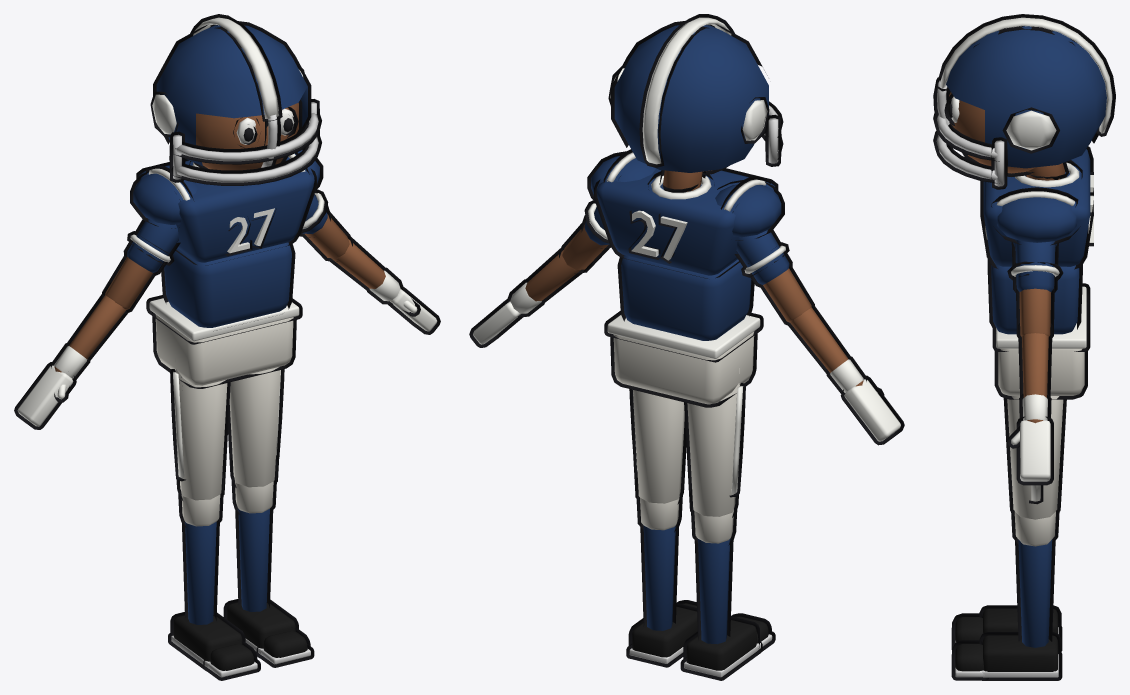
File: toon.glb
3 views of the same model, side by side, from view 1: azimuth 30°, elevation 25°; view 2: azimuth 150°, elevation 25°; view 3: azimuth 270°, elevation 25° (orthographic). The views are drawn at different scales.
Visible parts, largest first — view 1: head, thorax, pelvis, lumbar, thighR, thighL, shankL, shankR, upperArmR, forearmR, footR, forearmL (+6 smaller); view 2: head, thorax, pelvis, lumbar, thighR, thighL, shankL, shankR, upperArmR, footR, forearmR, footL (+5 smaller); view 3: head, thorax, shankL, pelvis, upperArmL, thighL, lumbar, footL, forearmL, handL, toesL, footR (+2 smaller).
Boxes of the visible parts, left/top/right/bottom form: head: left=150, top=14, right=321, bottom=185; thorax: left=130, top=150, right=323, bottom=265; pelvis: left=146, top=295, right=302, bottom=388; lumbar: left=161, top=242, right=295, bottom=331; thighR: left=170, top=354, right=230, bottom=500; thighL: left=228, top=367, right=284, bottom=487; shankL: left=230, top=457, right=277, bottom=611; shankR: left=177, top=472, right=224, bottom=624; upperArmR: left=102, top=218, right=180, bottom=315; forearmR: left=51, top=282, right=136, bottom=381; footR: left=168, top=612, right=245, bottom=670; forearmL: left=319, top=228, right=403, bottom=304; head: left=608, top=14, right=783, bottom=175; thorax: left=587, top=149, right=784, bottom=278; pelvis: left=604, top=311, right=763, bottom=407; lumbar: left=617, top=255, right=754, bottom=340; thighR: left=684, top=368, right=745, bottom=517; thighL: left=629, top=389, right=686, bottom=504; shankL: left=635, top=472, right=683, bottom=630; shankR: left=690, top=488, right=737, bottom=644; upperArmR: left=734, top=229, right=814, bottom=327; footR: left=680, top=616, right=762, bottom=680; forearmR: left=779, top=294, right=866, bottom=396; footL: left=626, top=603, right=697, bottom=667; head: left=933, top=14, right=1115, bottom=189; thorax: left=980, top=146, right=1093, bottom=269; shankL: left=1010, top=491, right=1060, bottom=647; pelvis: left=992, top=283, right=1090, bottom=399; upperArmL: left=1007, top=239, right=1063, bottom=342; thighL: left=1003, top=396, right=1066, bottom=519; lumbar: left=987, top=259, right=1082, bottom=334; footL: left=978, top=632, right=1062, bottom=680; forearmL: left=1018, top=323, right=1052, bottom=423; handL: left=1007, top=416, right=1053, bottom=485; toesL: left=951, top=640, right=988, bottom=680; footR: left=979, top=605, right=1062, bottom=650.
Bounding box in the file's own units: 1.48 × 2.13 × 0.5491.
